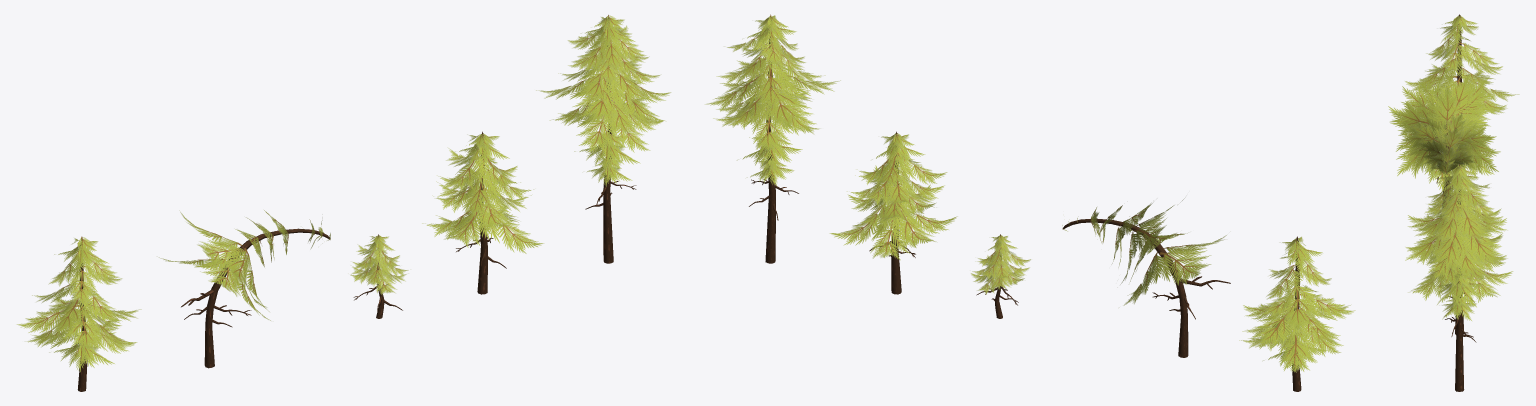
Rendered from tree-pine.glb.
3 renders of one model, left to right at view 1: azimuth 30°, elevation 25°; view 2: azimuth 150°, elevation 25°; view 3: azimuth 270°, elevation 25°, orthographic. The views are drawn at different scales.
Parts seen in each view (by area): view 1: PineTree_2, PineTree_5, PineTree_1, PineTree_4, PineTree_3; view 2: PineTree_2, PineTree_1, PineTree_5, PineTree_4, PineTree_3; view 3: PineTree_2, PineTree_4, PineTree_5, PineTree_1.
Part boxes in pixels (bbox=[...]): PineTree_2: bbox=[536, 15, 671, 263]; PineTree_5: bbox=[16, 236, 141, 391]; PineTree_1: bbox=[422, 131, 543, 294]; PineTree_4: bbox=[159, 210, 330, 368]; PineTree_3: bbox=[350, 234, 408, 318]; PineTree_2: bbox=[704, 14, 840, 263]; PineTree_1: bbox=[829, 131, 957, 294]; PineTree_5: bbox=[1239, 236, 1355, 391]; PineTree_4: bbox=[1062, 198, 1230, 357]; PineTree_3: bbox=[970, 234, 1030, 318]; PineTree_2: bbox=[1405, 164, 1507, 391]; PineTree_4: bbox=[1388, 73, 1500, 208]; PineTree_5: bbox=[1405, 14, 1519, 129]; PineTree_1: bbox=[1407, 192, 1513, 334].
Size of the model in its own units: 18.69 by 6.92 by 3.74.
2 materials, 2 textured.
